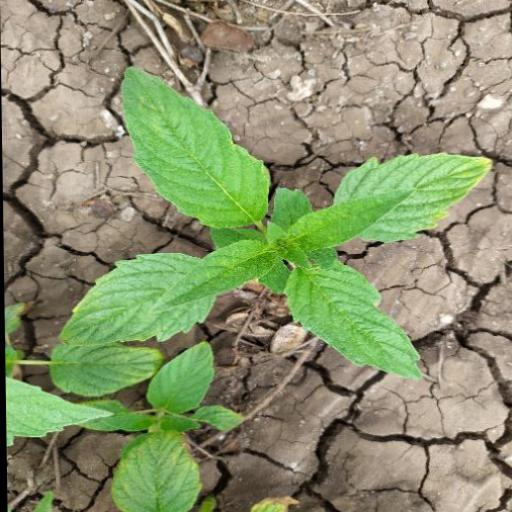crop: (54, 58, 498, 390)
